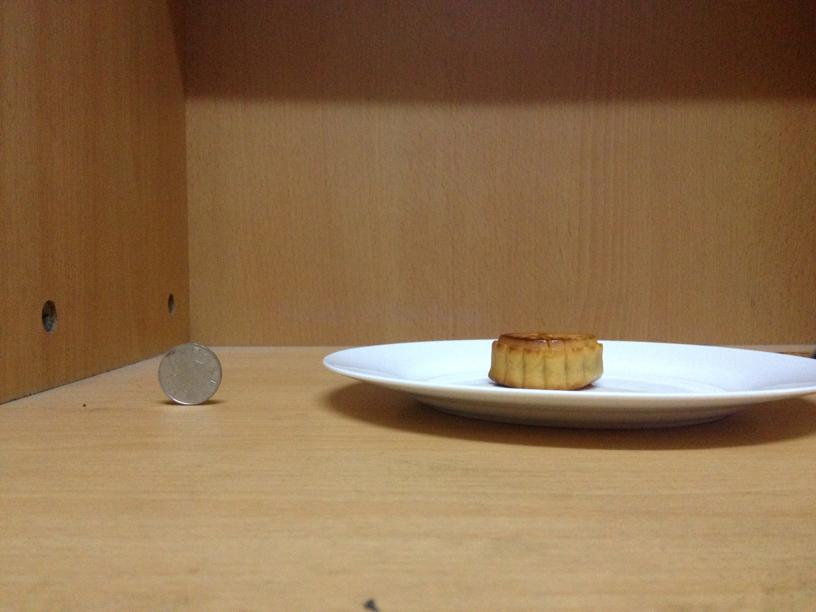coin: (158, 341, 223, 405)
mooncake: (488, 332, 604, 390)
